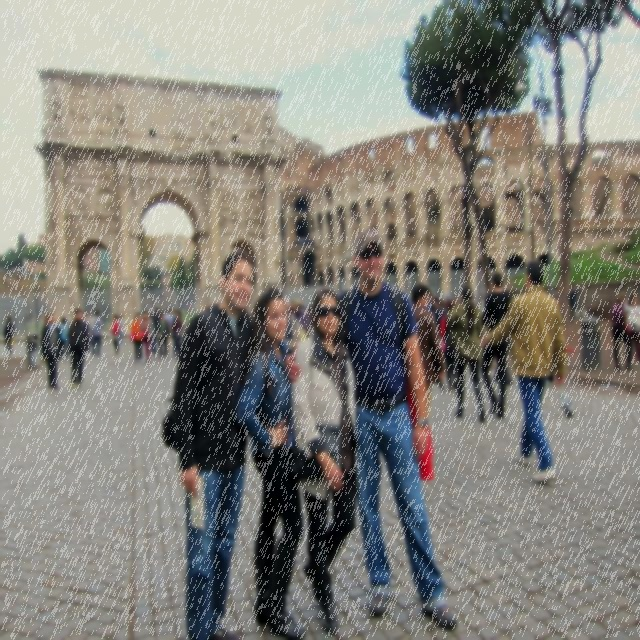pessoa: (280, 226, 460, 634), (159, 248, 264, 639), (42, 80, 271, 246), (232, 282, 312, 639), (288, 283, 360, 636), (482, 259, 568, 484), (446, 283, 486, 424), (480, 271, 516, 420), (410, 283, 446, 422), (610, 290, 635, 372), (39, 312, 64, 392), (66, 306, 90, 388), (440, 298, 458, 393), (622, 293, 640, 368), (282, 296, 303, 351), (490, 346, 516, 388), (140, 310, 156, 363), (150, 304, 166, 357), (155, 311, 171, 360), (129, 312, 144, 364), (569, 283, 585, 327), (90, 310, 104, 358), (293, 298, 309, 340), (171, 310, 183, 359), (59, 317, 70, 362), (431, 298, 444, 336), (3, 314, 14, 357), (302, 299, 316, 332), (92, 310, 104, 347), (291, 234, 318, 250), (110, 314, 120, 356), (161, 300, 196, 312), (164, 308, 173, 352), (64, 246, 77, 270), (81, 311, 87, 361), (110, 246, 122, 268), (472, 288, 484, 310), (214, 247, 230, 263), (296, 181, 312, 195), (204, 302, 222, 314), (257, 248, 269, 266), (27, 309, 38, 326), (426, 290, 434, 313), (86, 314, 92, 344), (118, 314, 124, 344), (453, 292, 463, 310), (178, 312, 184, 340), (446, 289, 454, 307), (406, 294, 414, 311), (440, 294, 446, 314), (101, 310, 108, 324), (288, 300, 294, 315), (63, 312, 70, 324), (42, 317, 50, 327), (140, 302, 150, 310), (292, 302, 296, 320), (520, 284, 526, 295), (624, 296, 630, 307), (494, 266, 502, 274), (172, 308, 177, 320), (166, 275, 170, 289), (118, 330, 120, 350), (434, 290, 438, 300), (151, 308, 156, 314), (148, 311, 152, 318), (134, 312, 136, 321), (136, 309, 140, 312)
